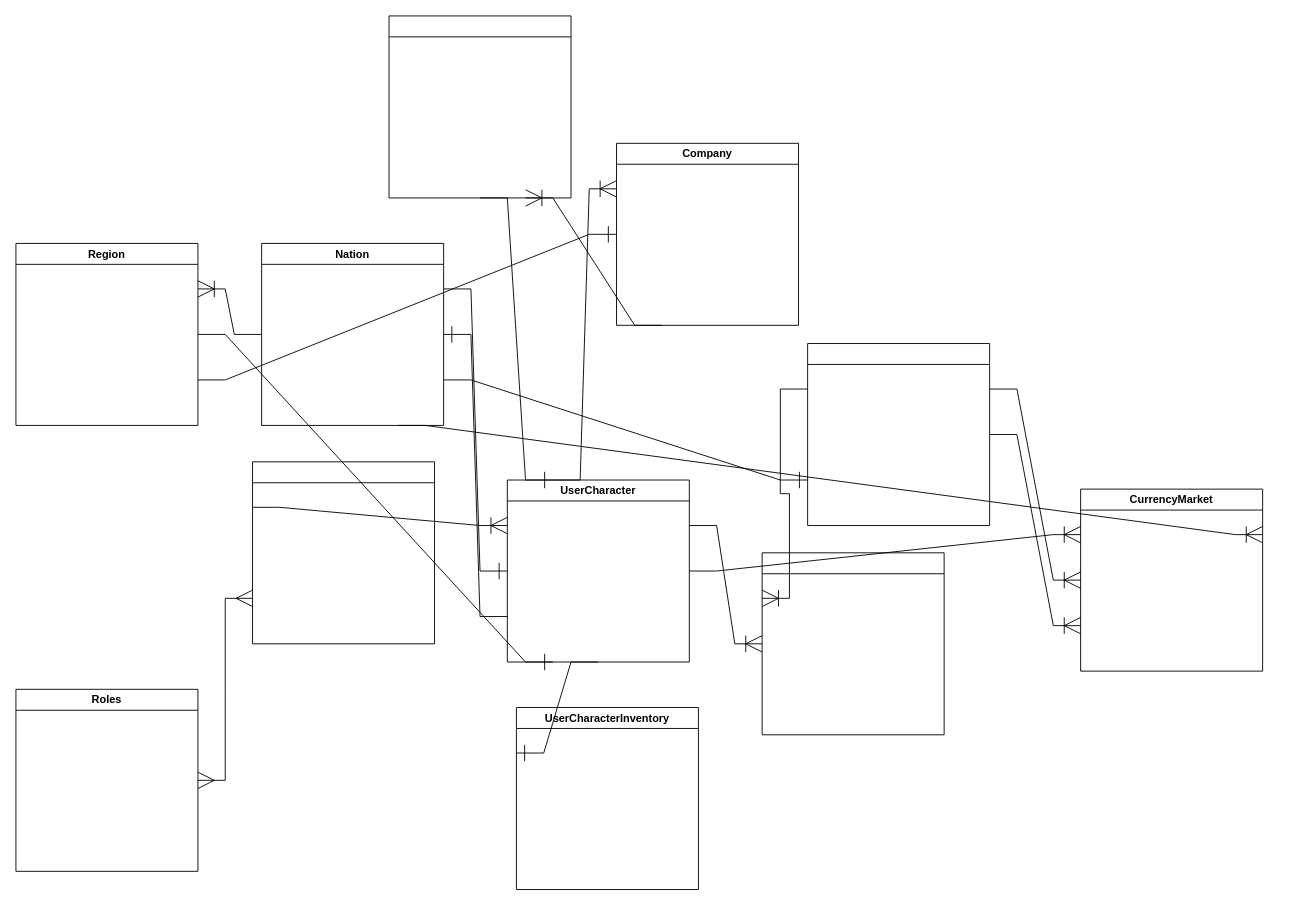
Some shapes in this 1295 by 905 pixel diagram are drawn without their labels. Here are the shapes that lost their labels. From the top down, the centre of each, then its label:
At point 479,106: "Jobs".
At point 898,434: "Currency".
At point 343,552: "UserAccount".
At point 852,643: "UserCurrency".
